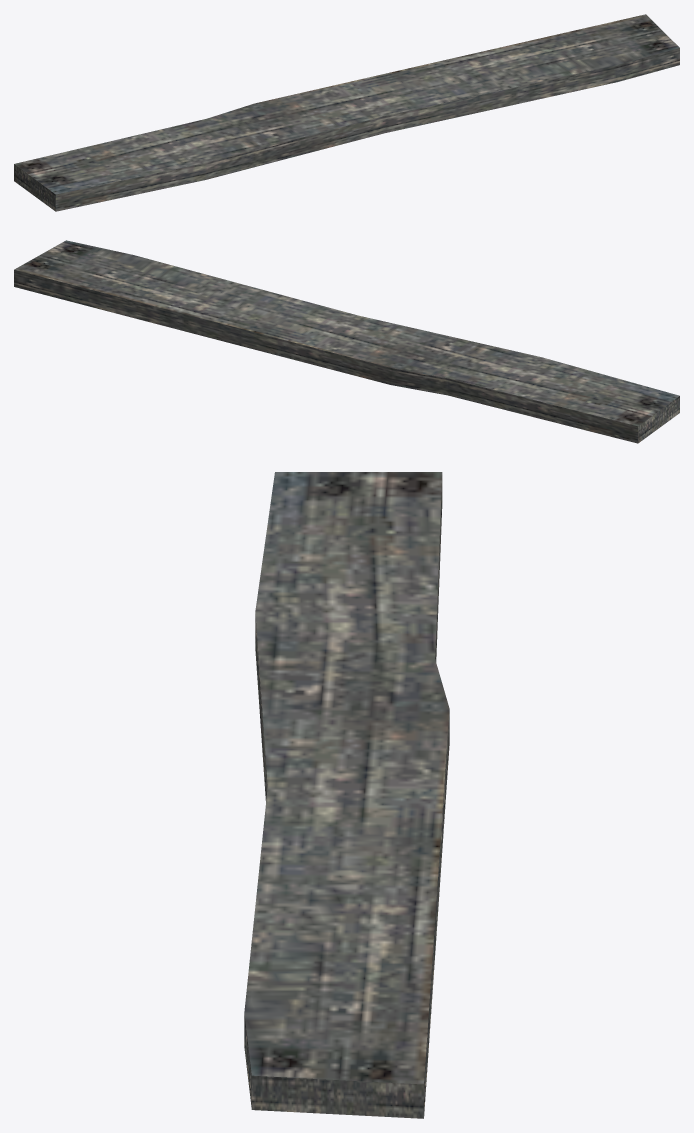
The model's file is board_2m_var2.fbx.
The picture shows the model from 3 angles, top to bottom: view 1: azimuth 30°, elevation 25°; view 2: azimuth 150°, elevation 25°; view 3: azimuth 270°, elevation 25°; orthographic projection. The views are drawn at different scales.
Visible parts, largest first — view 1: mesh_0; view 2: mesh_0; view 3: mesh_0.
Boxes of the visible parts, x1,y1,x2,y2 form: mesh_0: [14, 14, 679, 211]; mesh_0: [14, 240, 679, 443]; mesh_0: [244, 472, 449, 1118].
Bounding box in the file's own units: 203 × 5.3 × 28.74.
1 material, 1 textured.
